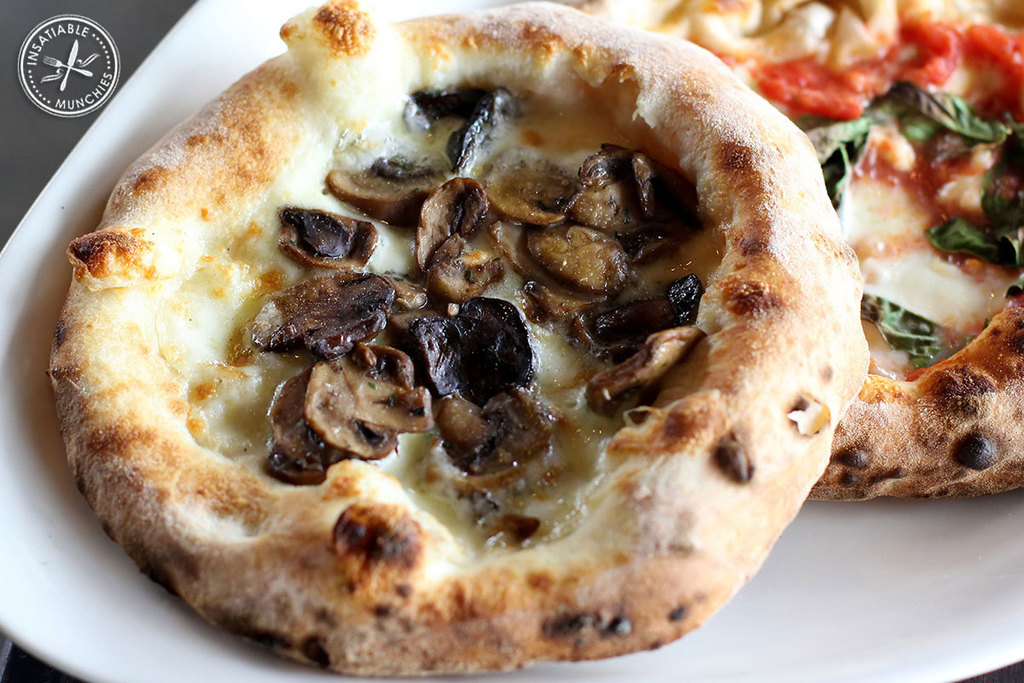Pizza: (42, 0, 870, 679), (580, 0, 1023, 501)
